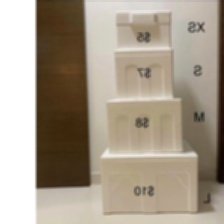foam_box: (96, 136, 203, 217), (100, 93, 188, 157), (109, 45, 177, 102), (111, 7, 174, 52)
